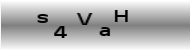4: (51, 24, 67, 39)
H: (113, 8, 128, 23)
V: (76, 12, 93, 26)
a: (97, 26, 113, 37)
s: (36, 13, 50, 25)
